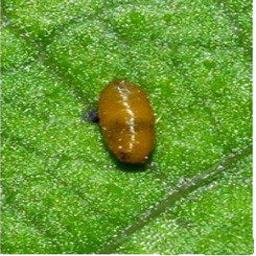liriomyza: (96, 78, 156, 165)
